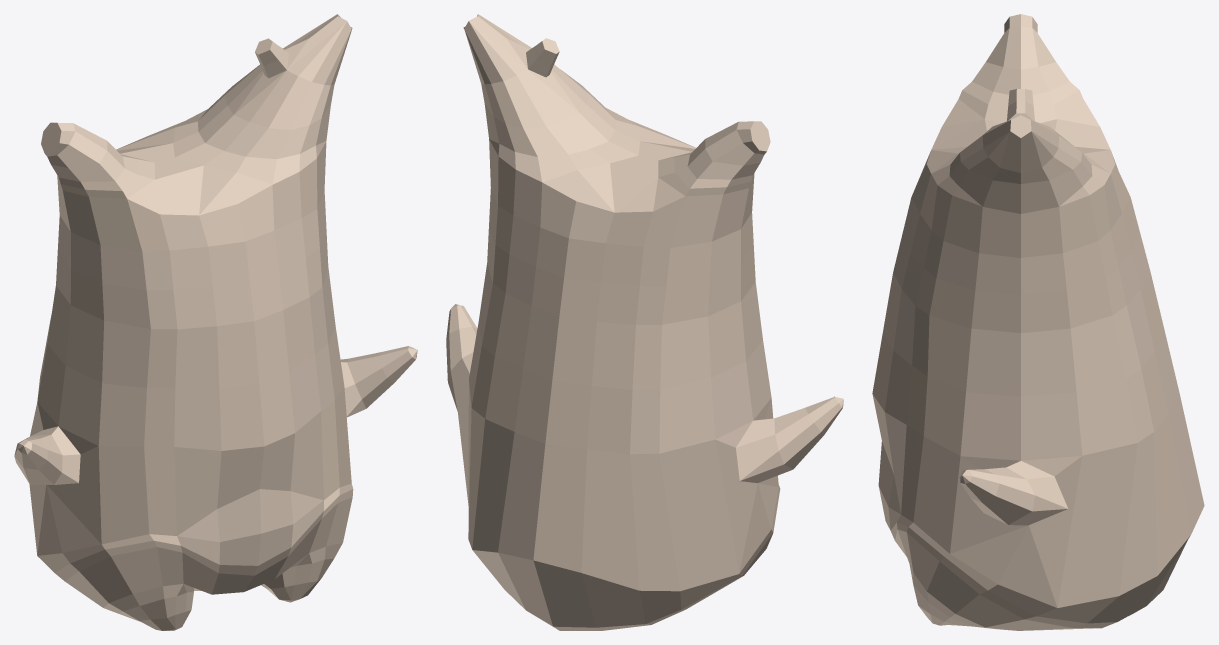
Rendered from frame_0138.obj.
3 views of the same model, side by side, from view 1: azimuth 30°, elevation 25°; view 2: azimuth 150°, elevation 25°; view 3: azimuth 270°, elevation 25° (orthographic). The views are drawn at different scales.
Parts seen in each view (by area): view 1: korok; view 2: korok; view 3: korok.
Boxes of the visible parts, box(x1,y1,x2,y2) form: korok: box(14, 14, 417, 630); korok: box(446, 14, 843, 630); korok: box(872, 14, 1204, 630).
Size of the model in its own units: 1.48 by 1.96 by 1.04.
